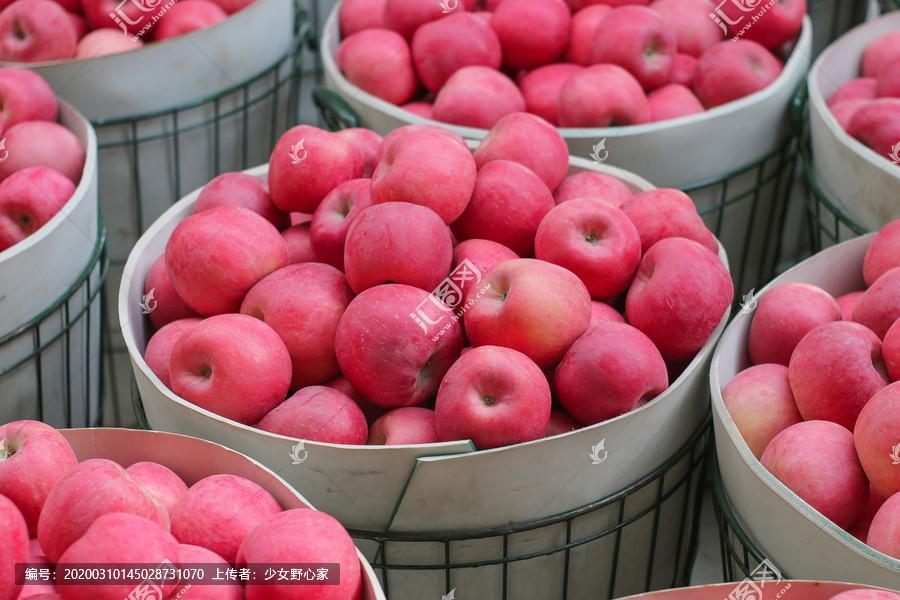apple: (334, 283, 463, 410), (160, 204, 293, 314), (624, 235, 734, 356), (463, 258, 594, 359), (432, 343, 551, 450), (758, 419, 868, 534), (172, 314, 291, 419), (535, 195, 640, 304), (556, 324, 672, 417), (789, 318, 889, 424), (369, 123, 479, 217), (344, 202, 454, 296), (265, 126, 360, 214), (745, 280, 839, 368), (589, 3, 678, 88), (1, 166, 74, 253), (1, 1, 77, 63), (866, 493, 900, 561)
